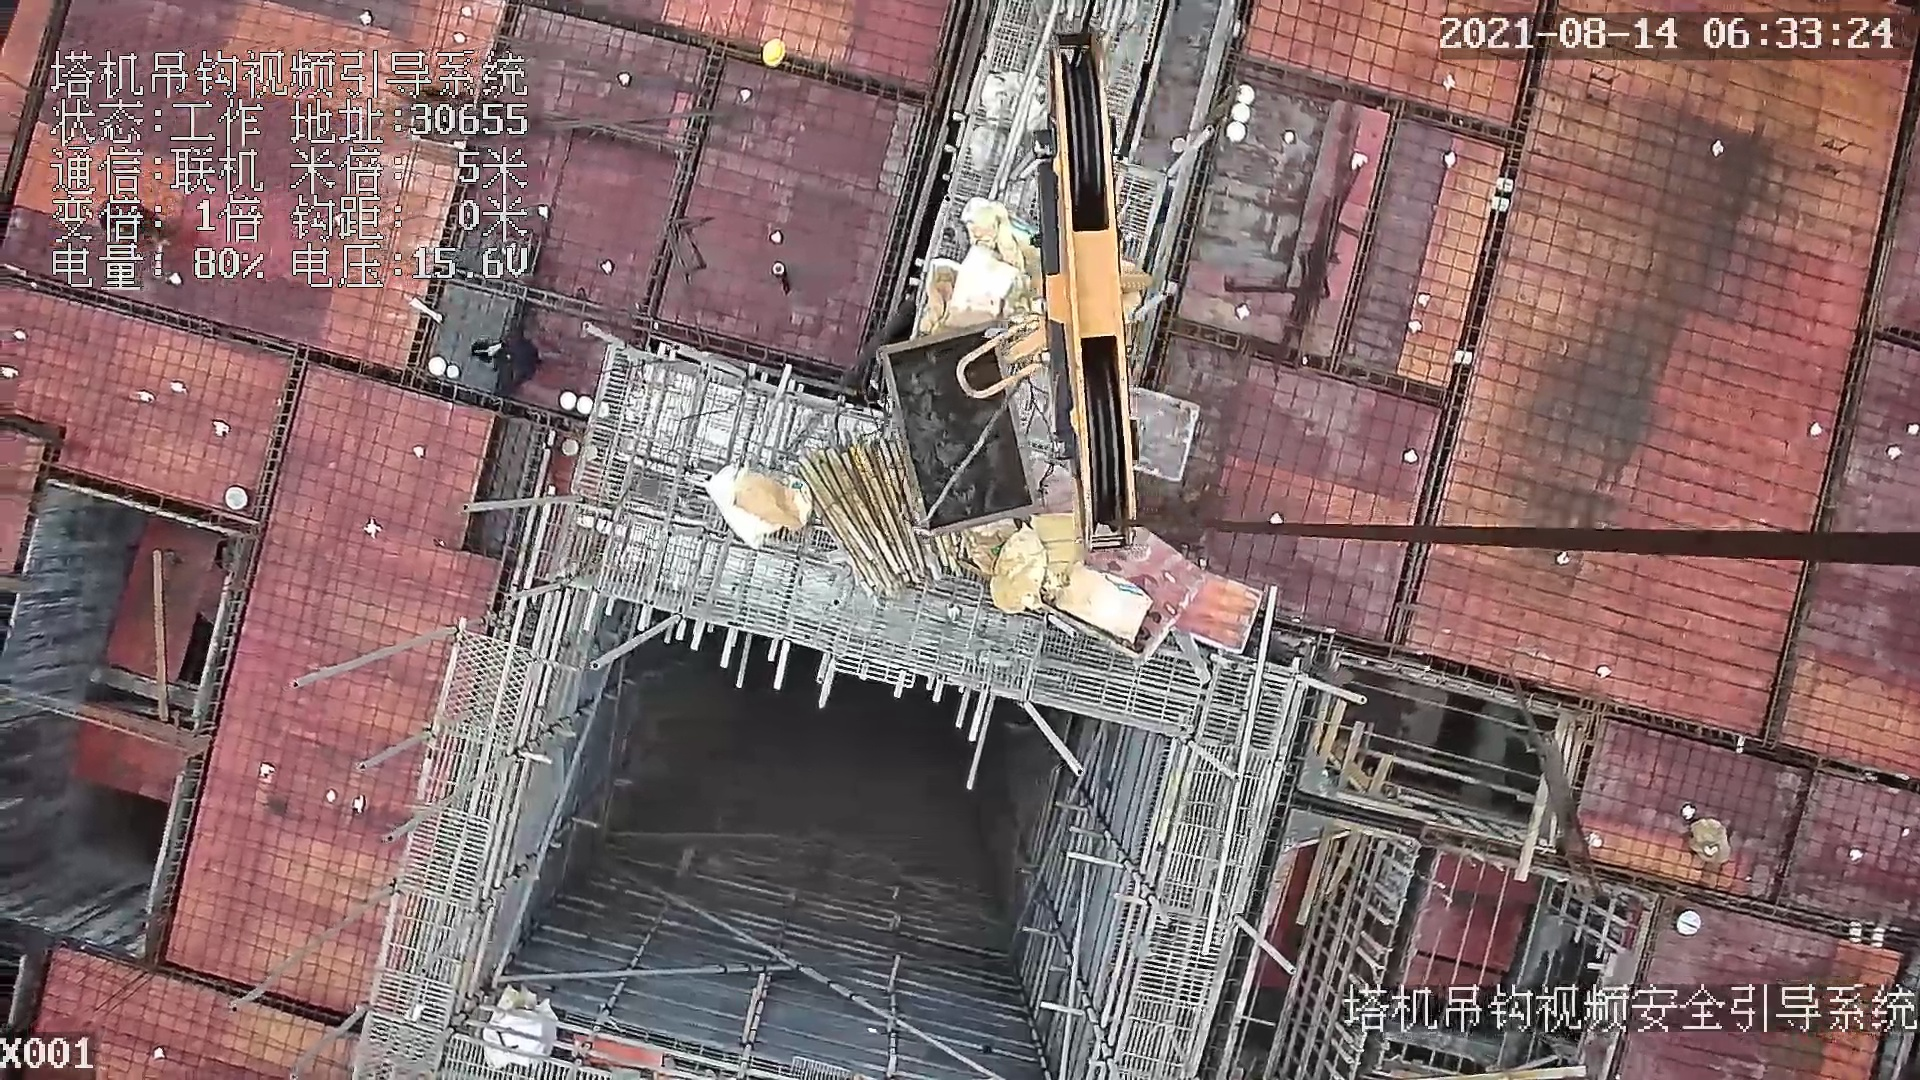helmet: (760, 35, 792, 78)
hook: (955, 28, 1131, 554)
hopper: (870, 315, 1036, 533)
person: (469, 331, 542, 391)
scaffold: (785, 435, 962, 590)
